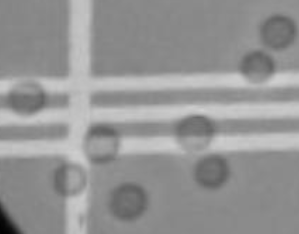cell: (172, 109, 217, 158), (2, 73, 48, 118), (188, 147, 233, 193), (78, 121, 122, 168), (105, 179, 150, 223), (235, 44, 280, 86), (257, 11, 299, 54), (47, 158, 89, 200)
